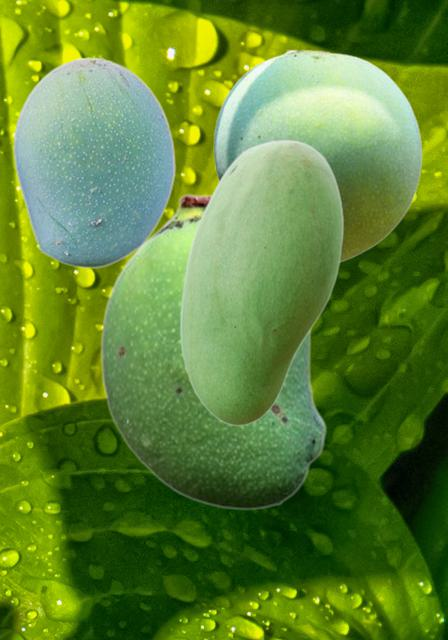green_mango: (100, 193, 326, 510), (179, 139, 342, 425), (213, 48, 421, 264), (12, 56, 175, 268)
